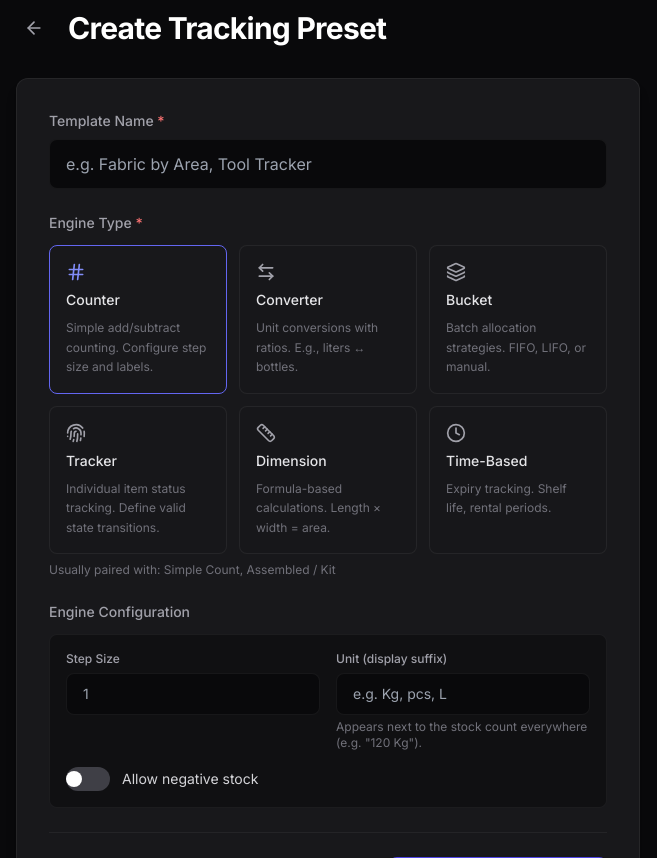
CalculatorCreate › updates profile hint when selecting different engine type
The width and height of the screenshot is (657, 858).
Click the text "Converter" at coordinates (289, 300), box [256,290,323,310]
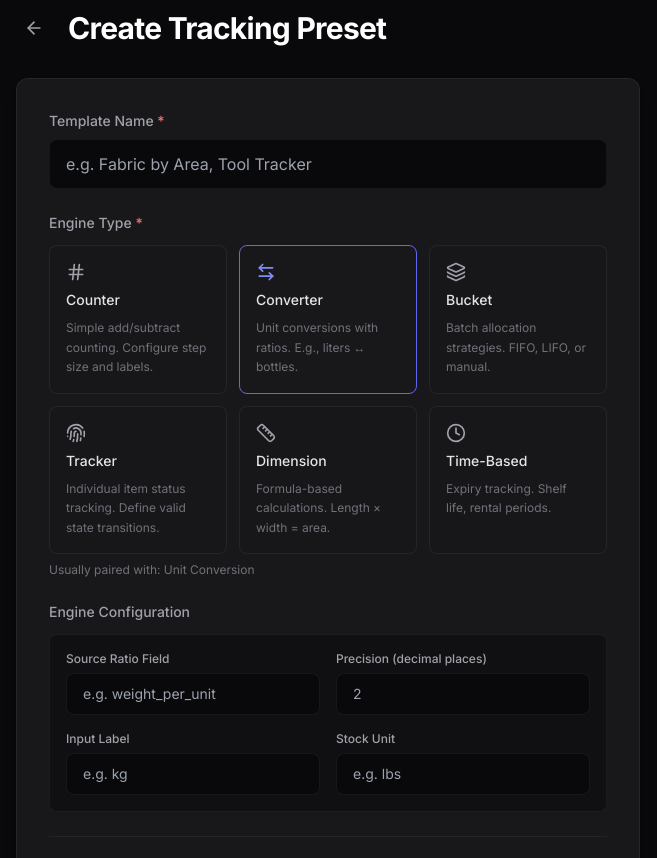
Now the text "Usually paired with: Unit Conversion" is shown, box [49,562,254,577]
